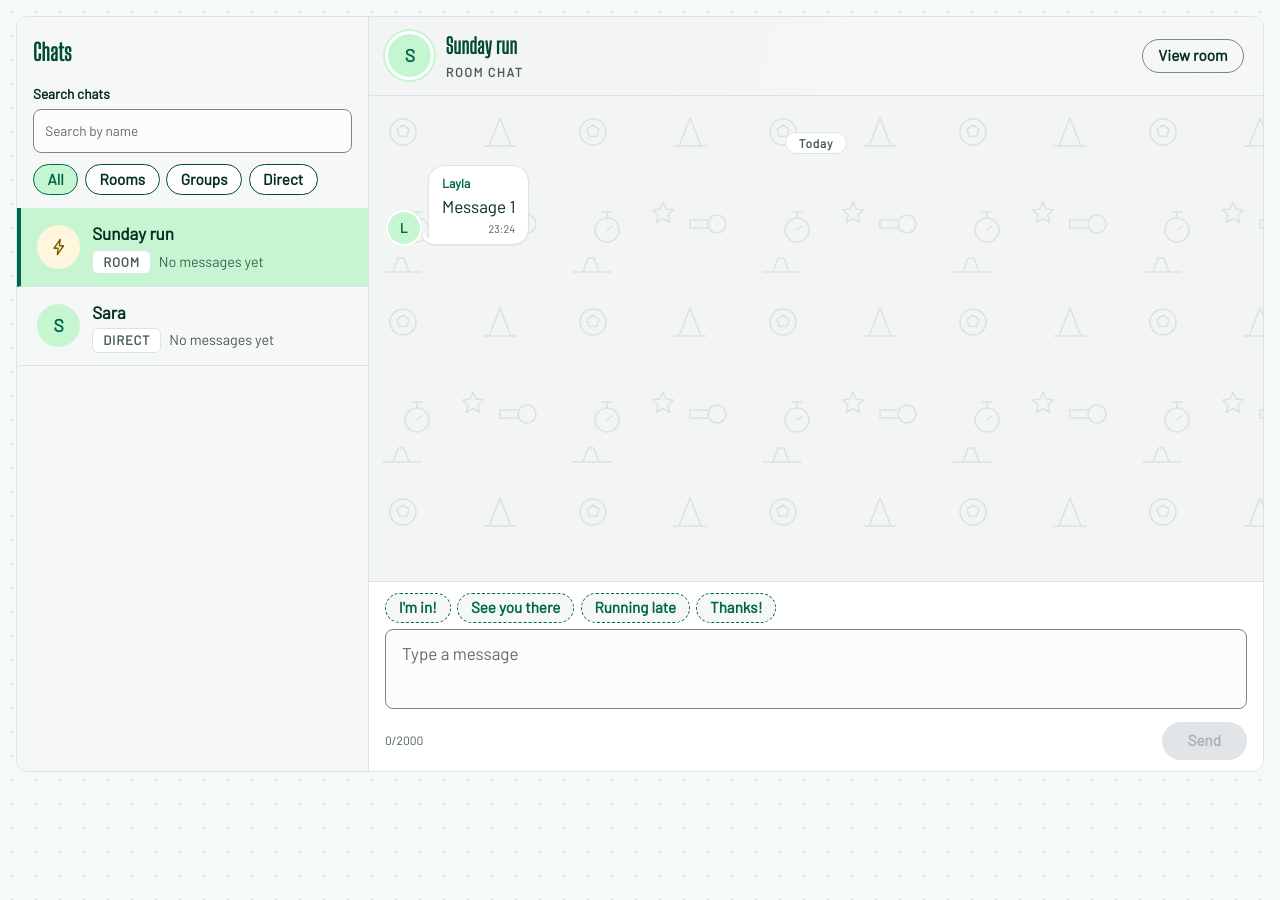
Scenario: Sending › sends several messages in the order they were written
Expected: the text "Message 1" is shown, [442,195,515,219]
In the text box with placeholder "Type a message": (816, 669) [385,629,1247,709], type "First"
Then press Enter
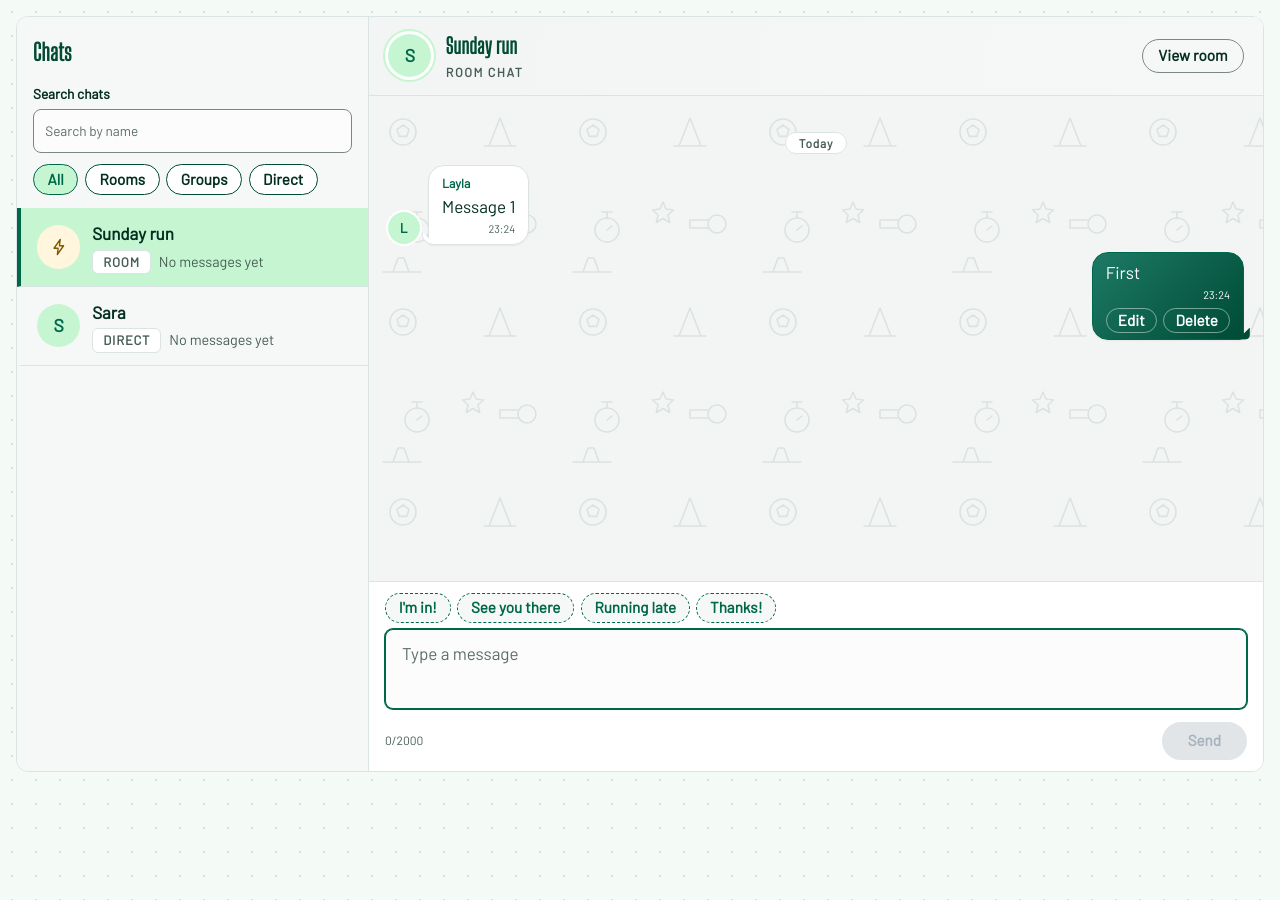
In the text box with placeholder "Type a message": (816, 669) [385,629,1247,709], type "Second"
Then press Enter
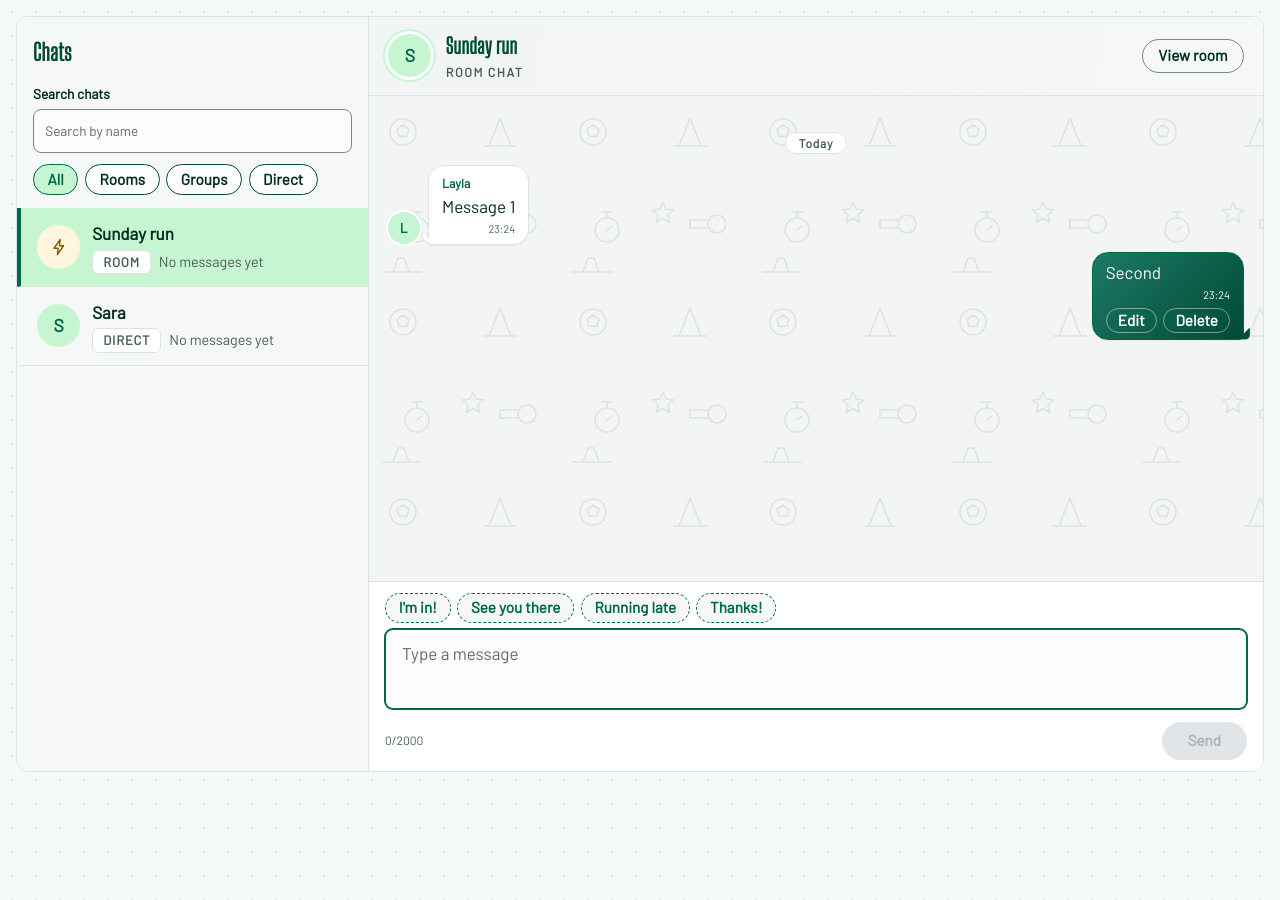
Expected: the text "Second" is shown, [1106,262,1161,282]
